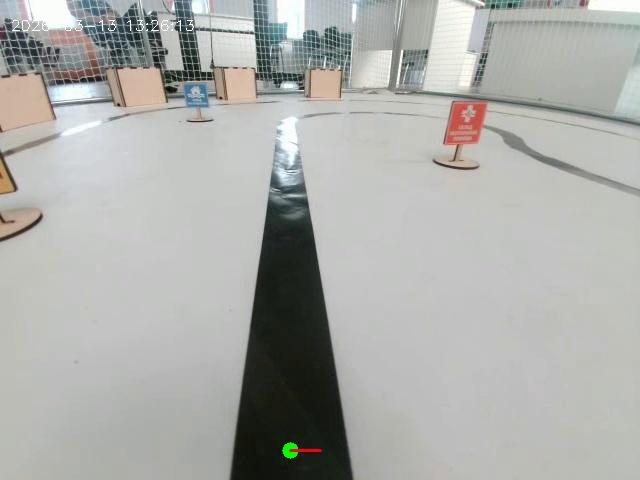flood: (165, 71, 218, 138)
industrial: (0, 121, 37, 266)
medical: (446, 89, 500, 195)
